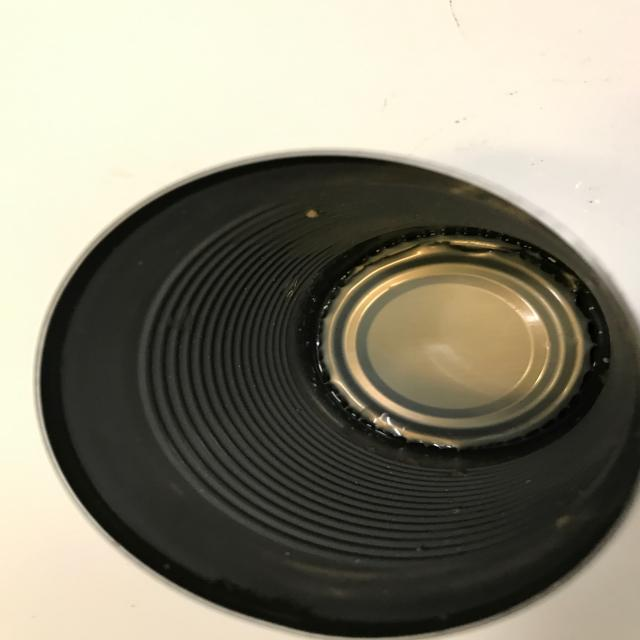metal: (34, 147, 640, 638)
